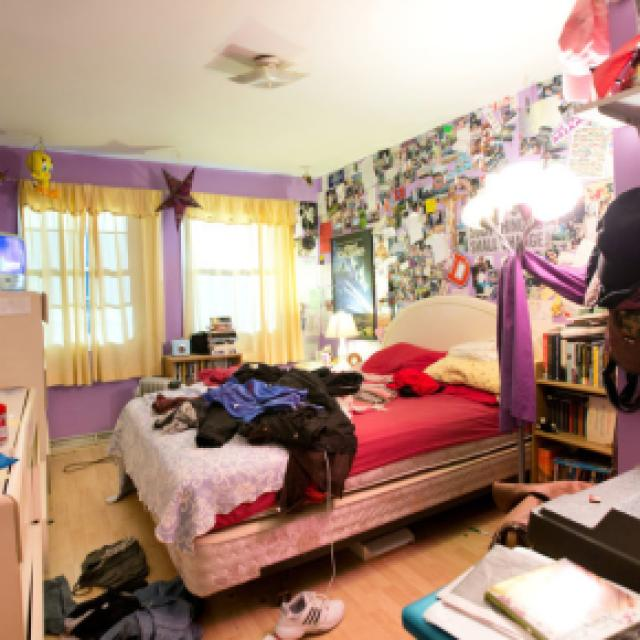mess: (40, 532, 338, 640), (145, 347, 393, 474)
